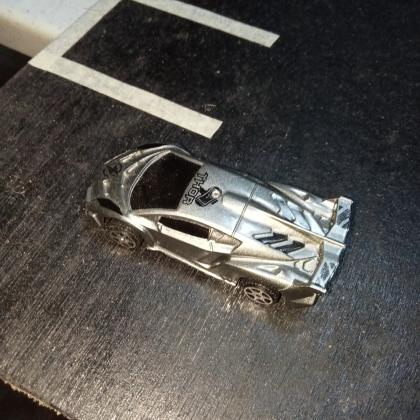Car: (82, 140, 354, 310)
